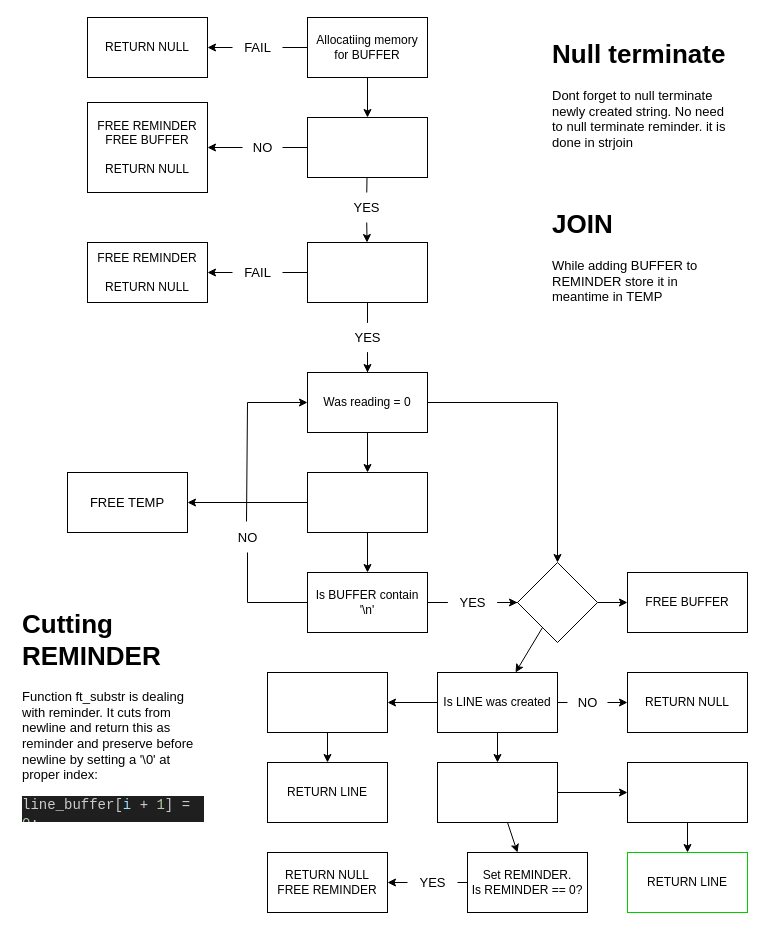
This 765x930 diagram has some shape labels left out. The centre of each missing label's shape, as x and y in pixels:
Add BUFFER to REMINDER: (x=367, y=502)
BREAK: (x=557, y=602)
Find '\0' in LINE: (x=327, y=702)
Find '\n' in LINE: (x=497, y=792)
Is file descriptor proper and buffer is bigger than 0: (x=367, y=147)
Set LINE, by settin '\0': (x=687, y=792)
Was reading succesfull?: (x=367, y=272)
